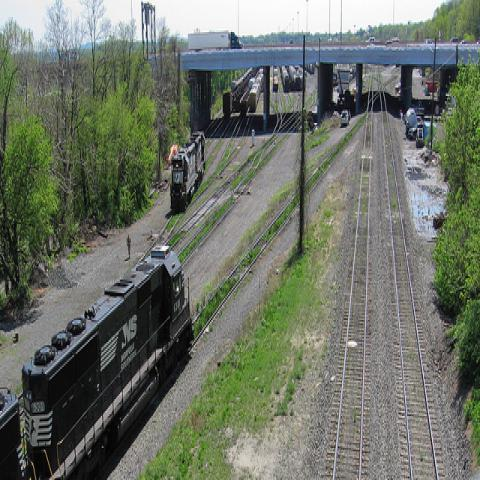truck: (188, 32, 243, 49), (405, 108, 418, 138), (424, 80, 439, 96)
